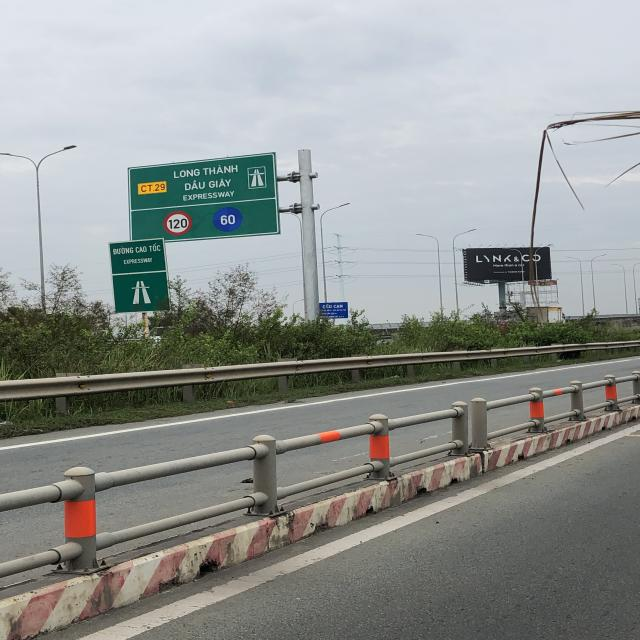Bien bao toc do toi thieu cho phep: (210, 205, 246, 233)
